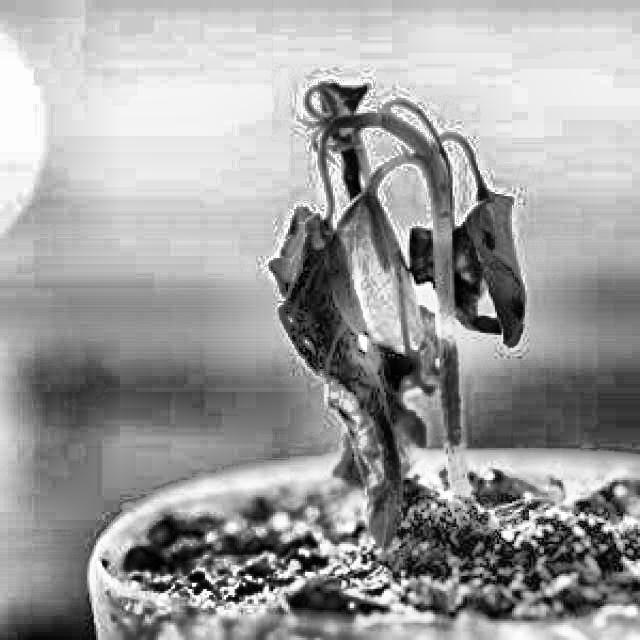plants: (240, 58, 577, 583)
